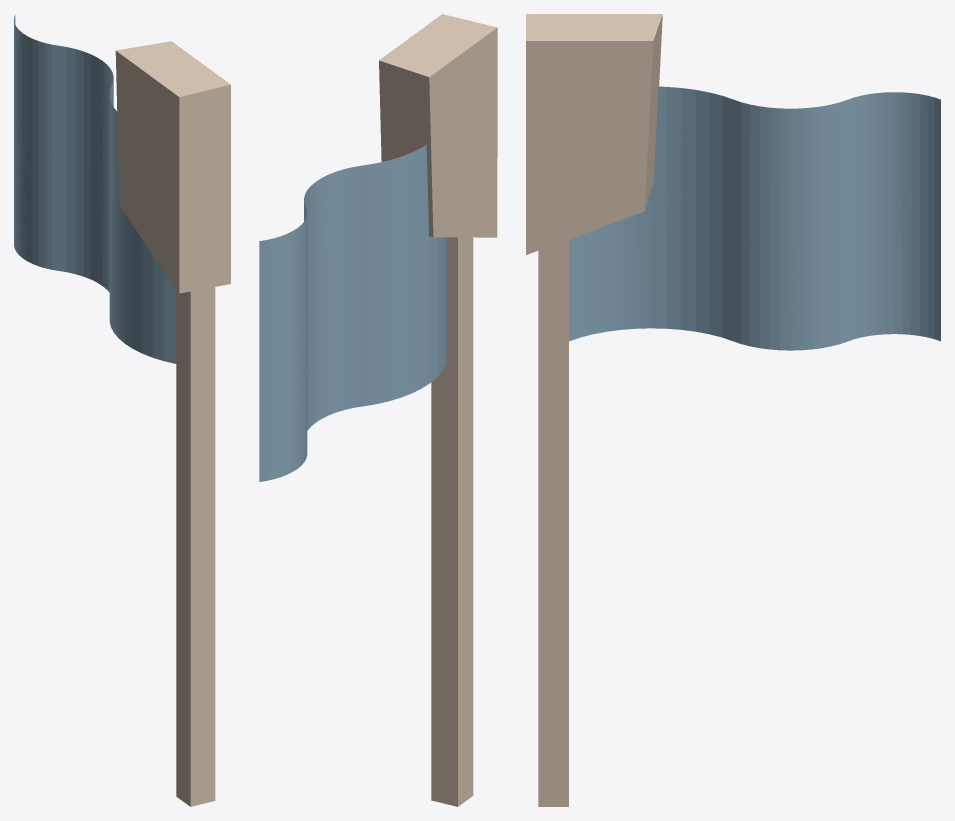
File: flagBlueWide.fbx
3 renders of one model, left to right at view 1: azimuth 30°, elevation 25°; view 2: azimuth 150°, elevation 25°; view 3: azimuth 270°, elevation 25°, orthographic. The views are drawn at different scales.
Parts seen in each view (by area): view 1: flagBlueWide, flagBlueWide_cell.003, flagBlueWide_cell.004, flagBlueWide_cell.006, flagBlueWide_cell.002, flagBlueWide_cell, flagBlueWide_cell.005, flagBlueWide_cell.001; view 2: flagBlueWide, flagBlueWide_cell.003, flagBlueWide_cell.006, flagBlueWide_cell.004, flagBlueWide_cell, flagBlueWide_cell.001, flagBlueWide_cell.005, flagBlueWide_cell.002; view 3: flagBlueWide, flagBlueWide_cell.003, flagBlueWide_cell.001, flagBlueWide_cell.006, flagBlueWide_cell, flagBlueWide_cell.004, flagBlueWide_cell.007, flagBlueWide_cell.005.
Boxes of the visible parts, box(x1,y1,x2,y2) form: flagBlueWide: box(14, 21, 215, 806); flagBlueWide_cell.003: box(115, 41, 230, 293); flagBlueWide_cell.004: box(35, 153, 105, 286); flagBlueWide_cell.006: box(121, 215, 176, 363); flagBlueWide_cell.002: box(56, 45, 97, 175); flagBlueWide_cell: box(14, 15, 56, 157); flagBlueWide_cell.005: box(23, 146, 35, 264); flagBlueWide_cell.001: box(97, 58, 113, 181); flagBlueWide: box(259, 144, 473, 806); flagBlueWide_cell.003: box(379, 14, 497, 237); flagBlueWide_cell.006: box(422, 237, 447, 387); flagBlueWide_cell.004: box(305, 312, 327, 459); flagBlueWide_cell: box(259, 215, 307, 350); flagBlueWide_cell.001: box(311, 147, 427, 311); flagBlueWide_cell.005: box(286, 341, 305, 467); flagBlueWide_cell.002: box(304, 187, 310, 314); flagBlueWide: box(538, 86, 940, 806); flagBlueWide_cell.003: box(526, 14, 662, 254); flagBlueWide_cell.001: box(654, 86, 800, 245); flagBlueWide_cell.006: box(635, 181, 752, 346); flagBlueWide_cell: box(877, 92, 940, 212); flagBlueWide_cell.004: box(753, 236, 808, 350); flagBlueWide_cell.007: box(915, 211, 940, 341); flagBlueWide_cell.005: box(879, 212, 914, 335).
Bounding box in the file's own units: 59.95 × 797 × 389.
